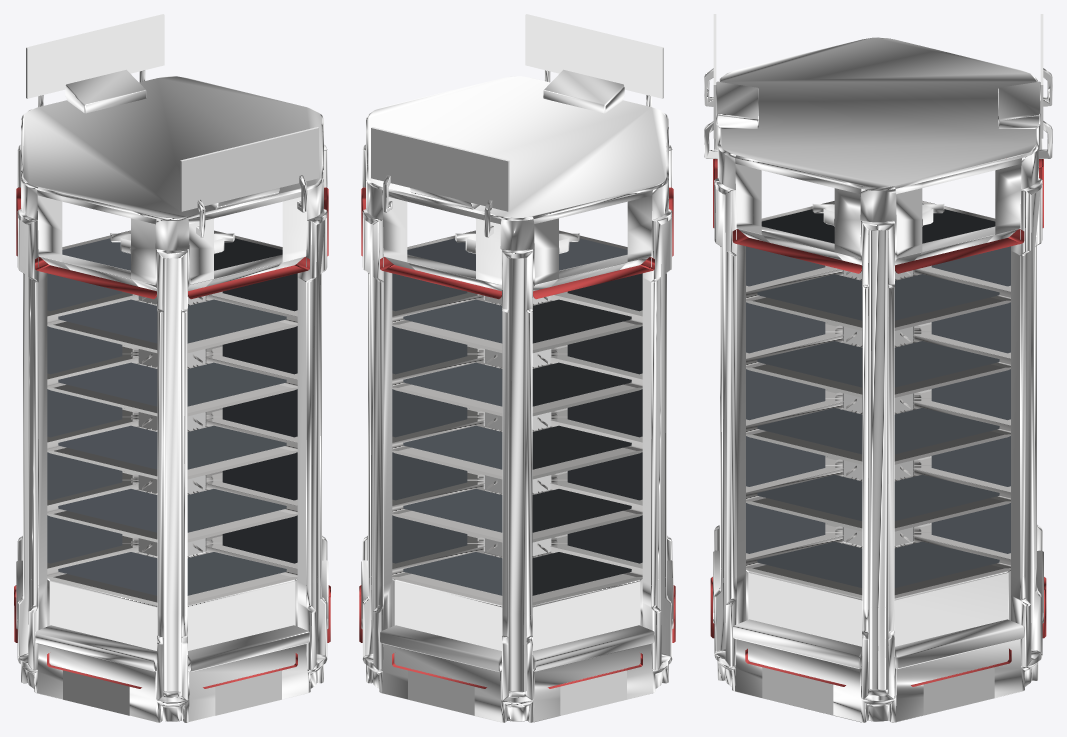
The model's file is hat_rack_a.glb.
3 views of the same model, side by side, from view 1: azimuth 30°, elevation 25°; view 2: azimuth 150°, elevation 25°; view 3: azimuth 270°, elevation 25° (orthographic). The views are drawn at different scales.
Bounding box in the file's own units: 1.69 × 3.04 × 1.6.
